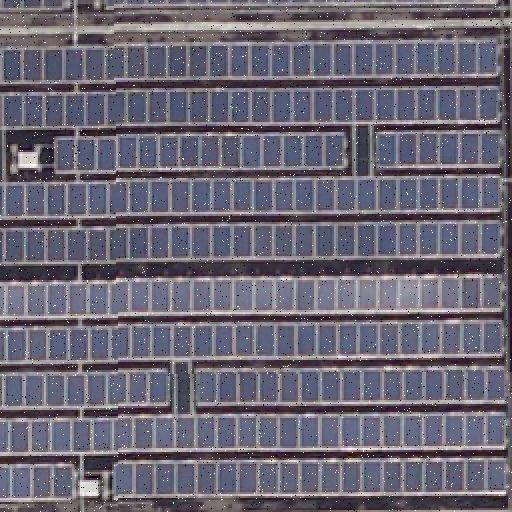solar-panel: (3, 38, 512, 512), (0, 0, 512, 17)
